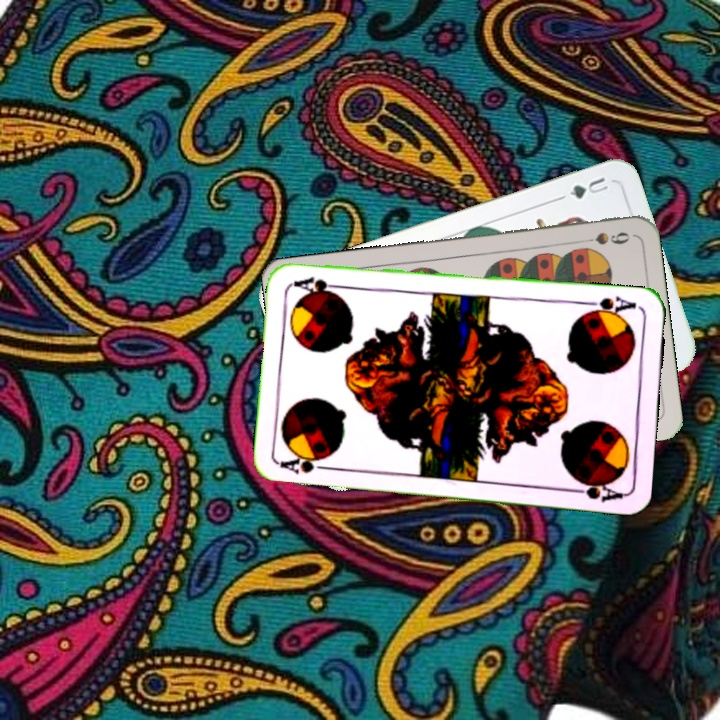GU: (565, 173, 611, 202)
S9: (574, 228, 633, 247)
SA: (580, 292, 639, 320), (277, 453, 336, 477)
